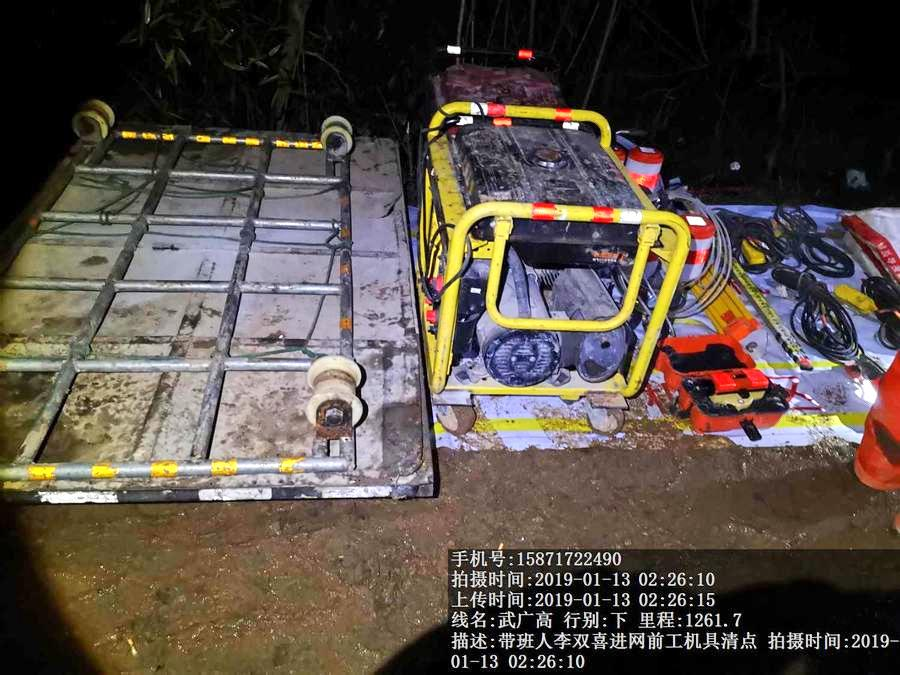DJ: (401, 115, 681, 395)
DX: (777, 264, 852, 363)
